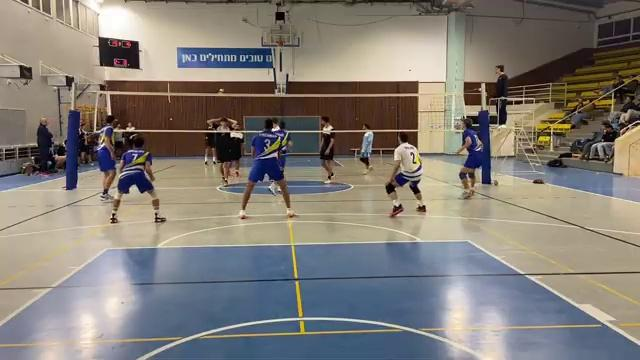ball: (216, 86, 229, 95)
